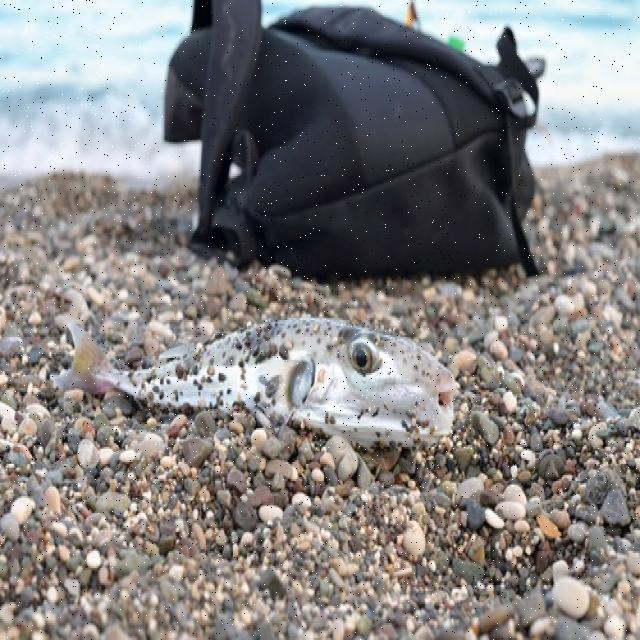Balik: (54, 319, 455, 446)
